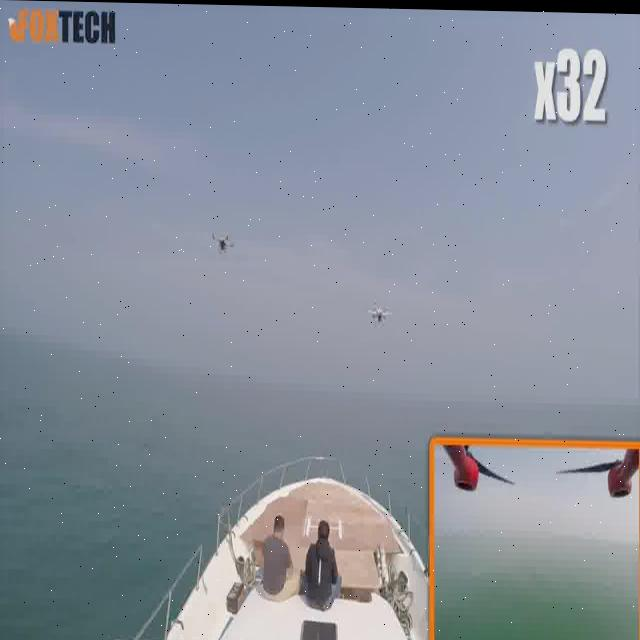drone: (364, 293, 398, 334), (205, 225, 241, 263)
